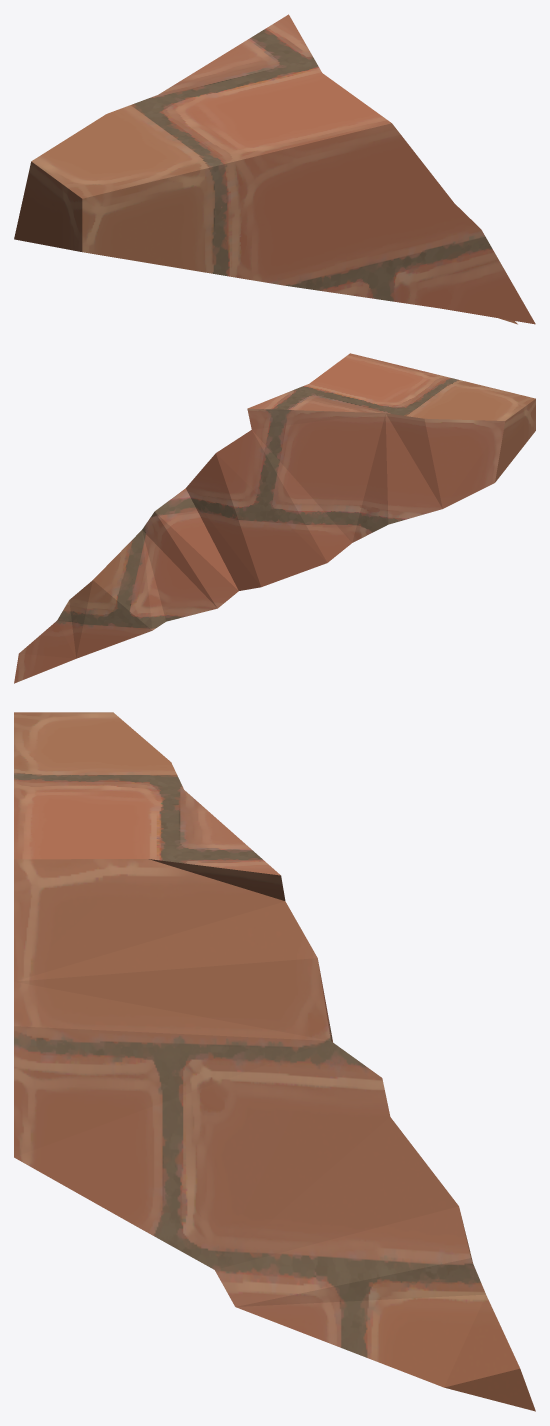
File: gib2.fbx
The picture shows the model from 3 angles, top to bottom: view 1: azimuth 30°, elevation 25°; view 2: azimuth 150°, elevation 25°; view 3: azimuth 270°, elevation 25°; orthographic projection. The views are drawn at different scales.
Parts seen in each view (by area): view 1: gib2; view 2: gib2; view 3: gib2.
Boxes of the visible parts, box(x1,y1,x2,y2) form: gib2: box(14, 14, 535, 324); gib2: box(14, 353, 535, 683); gib2: box(14, 712, 535, 1411).
Size of the model in its own units: 32 by 21.63 by 24.73.
Materials: 1 (1 with a texture image).
